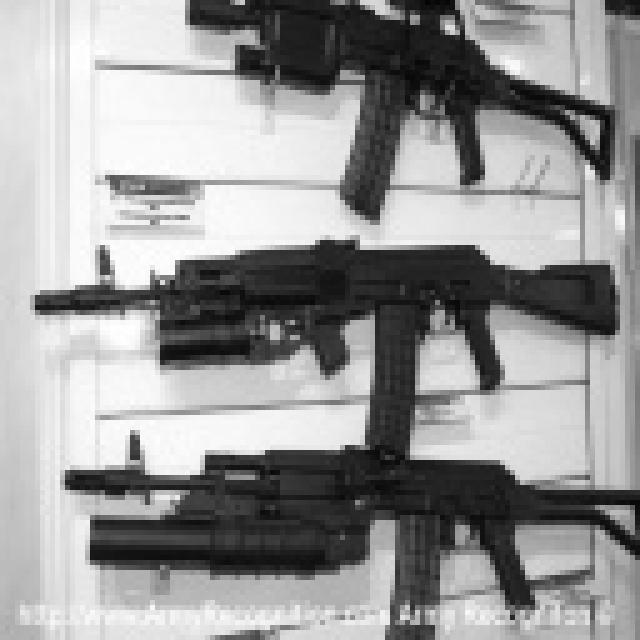Rifle: (25, 405, 640, 640), (30, 228, 638, 460), (165, 0, 640, 220)
